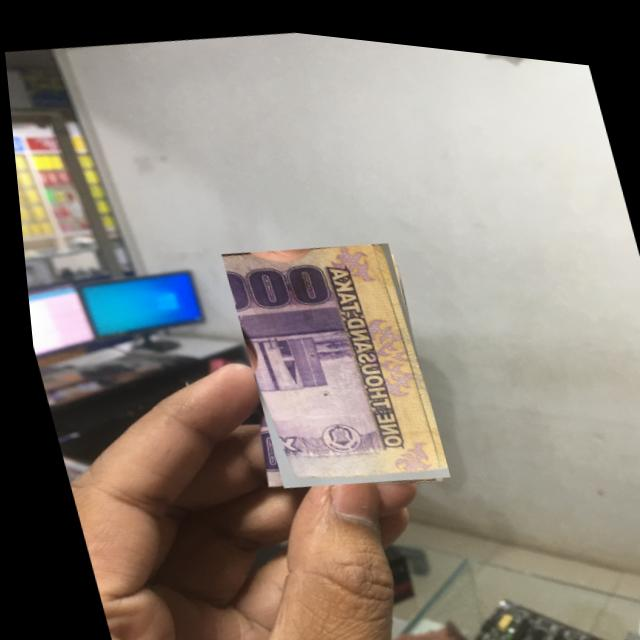Taka: (214, 219, 443, 497)
